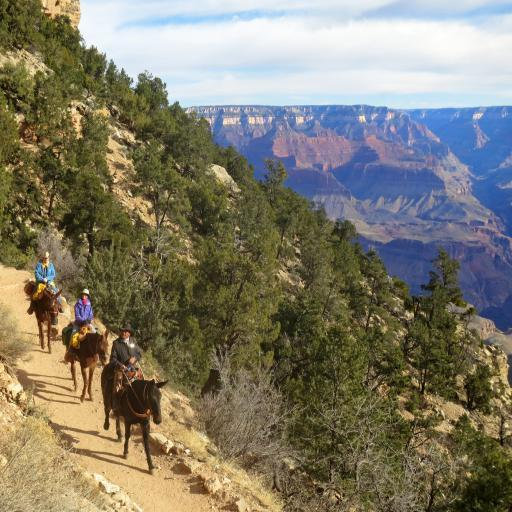horse: (100, 360, 168, 476), (61, 326, 110, 403), (28, 281, 64, 354)
